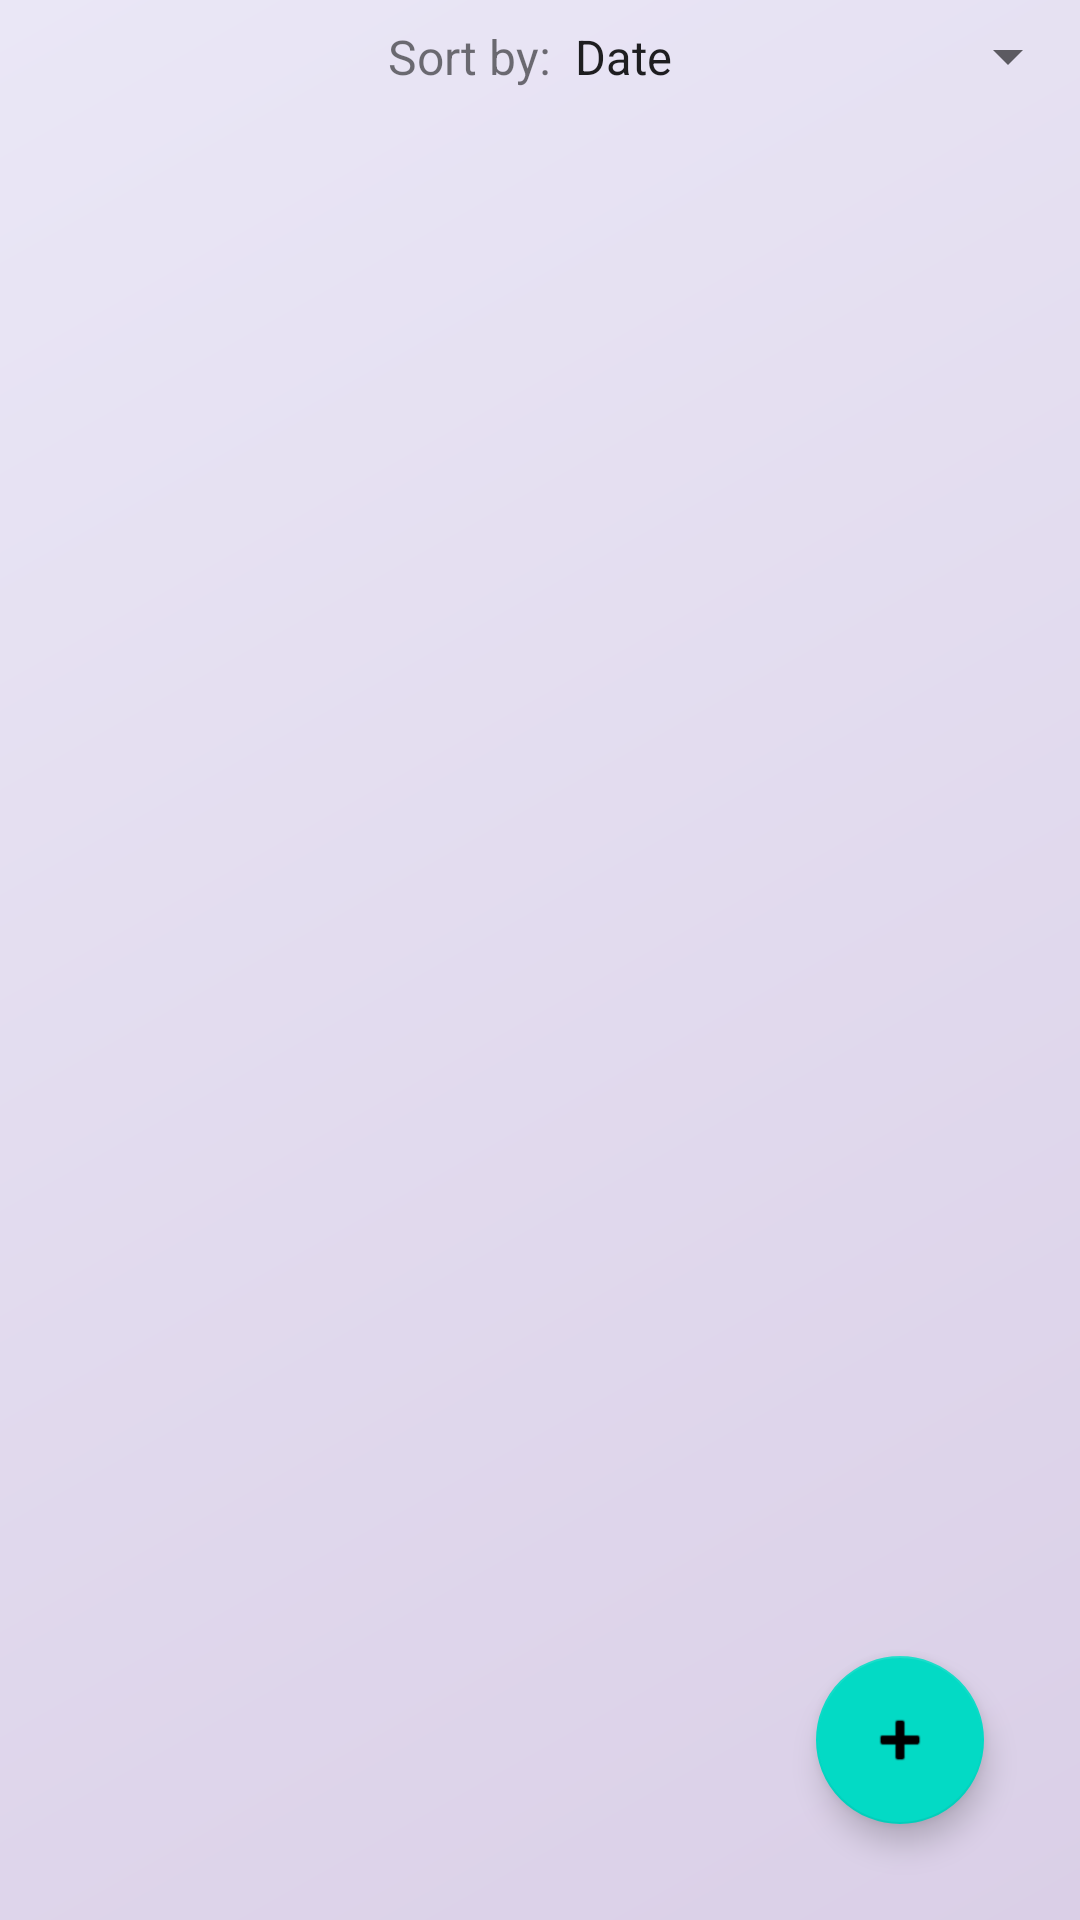

Icons on this 1080*1920 Android screen, each with the point to tap as point (x, y):
Add track: point (900, 1740)
